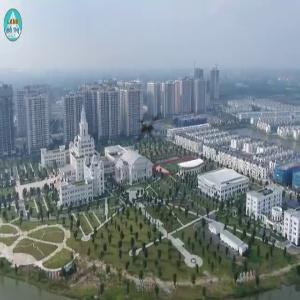drone: (104, 85, 198, 179)
